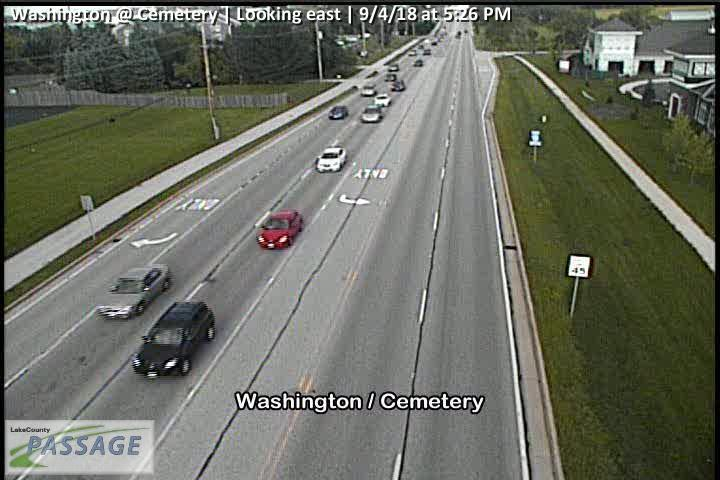SUV: (131, 301, 217, 380), (358, 104, 383, 123), (325, 104, 349, 120), (406, 46, 417, 57), (421, 46, 433, 56)
Sedan: (96, 262, 174, 320), (254, 208, 305, 252), (313, 144, 347, 173), (360, 82, 377, 98), (373, 93, 392, 106), (390, 81, 405, 92), (387, 63, 400, 72), (383, 72, 396, 81), (413, 58, 424, 68)
